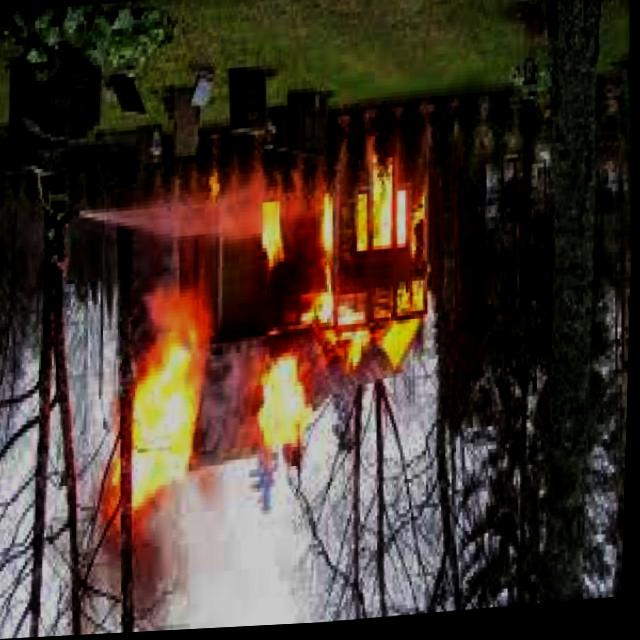Fire: (237, 182, 320, 464), (101, 333, 210, 522)
